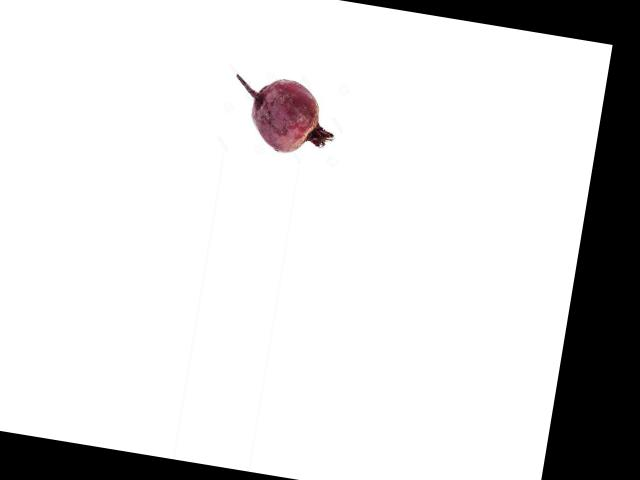beet: (225, 70, 342, 159)
